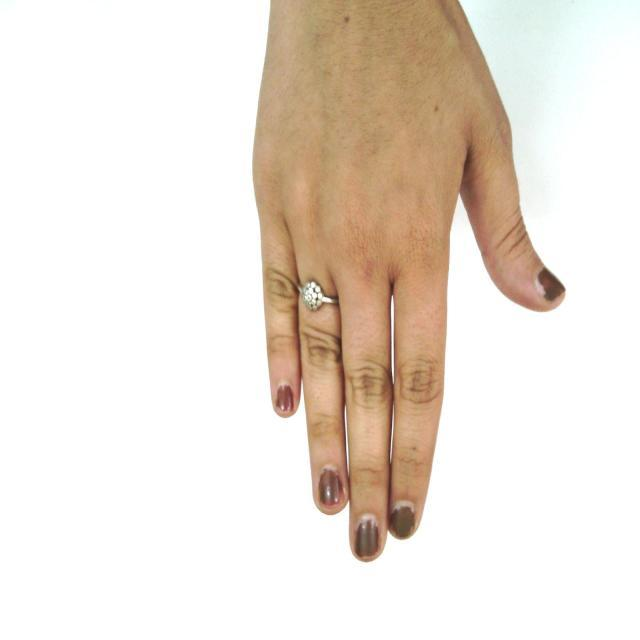Fingernail: (535, 267, 567, 301), (355, 513, 379, 558), (319, 466, 344, 508), (390, 500, 415, 538), (276, 382, 293, 414)
